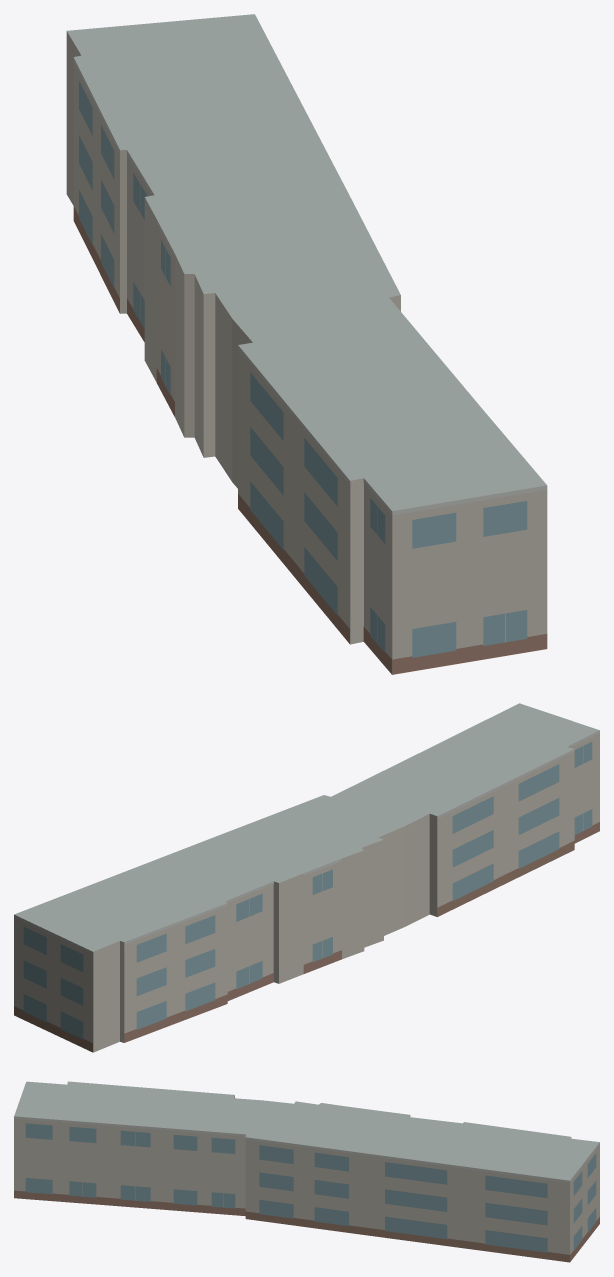
Rendered from survey-upis-32527429.glb.
3 views of the same model, one above another, from view 1: azimuth 30°, elevation 25°; view 2: azimuth 150°, elevation 25°; view 3: azimuth 270°, elevation 25° (orthographic). The views are drawn at different scales.
Parts seen in each view (by area): view 1: survey-upis-32527429.tmp; view 2: survey-upis-32527429.tmp; view 3: survey-upis-32527429.tmp.
Boxes of the visible parts, <box> form: survey-upis-32527429.tmp: <box>66,14,547,674</box>; survey-upis-32527429.tmp: <box>14,703,599,1052</box>; survey-upis-32527429.tmp: <box>14,1081,599,1262</box>.
Size of the model in its own units: 23.82 by 9.15 by 59.4.
